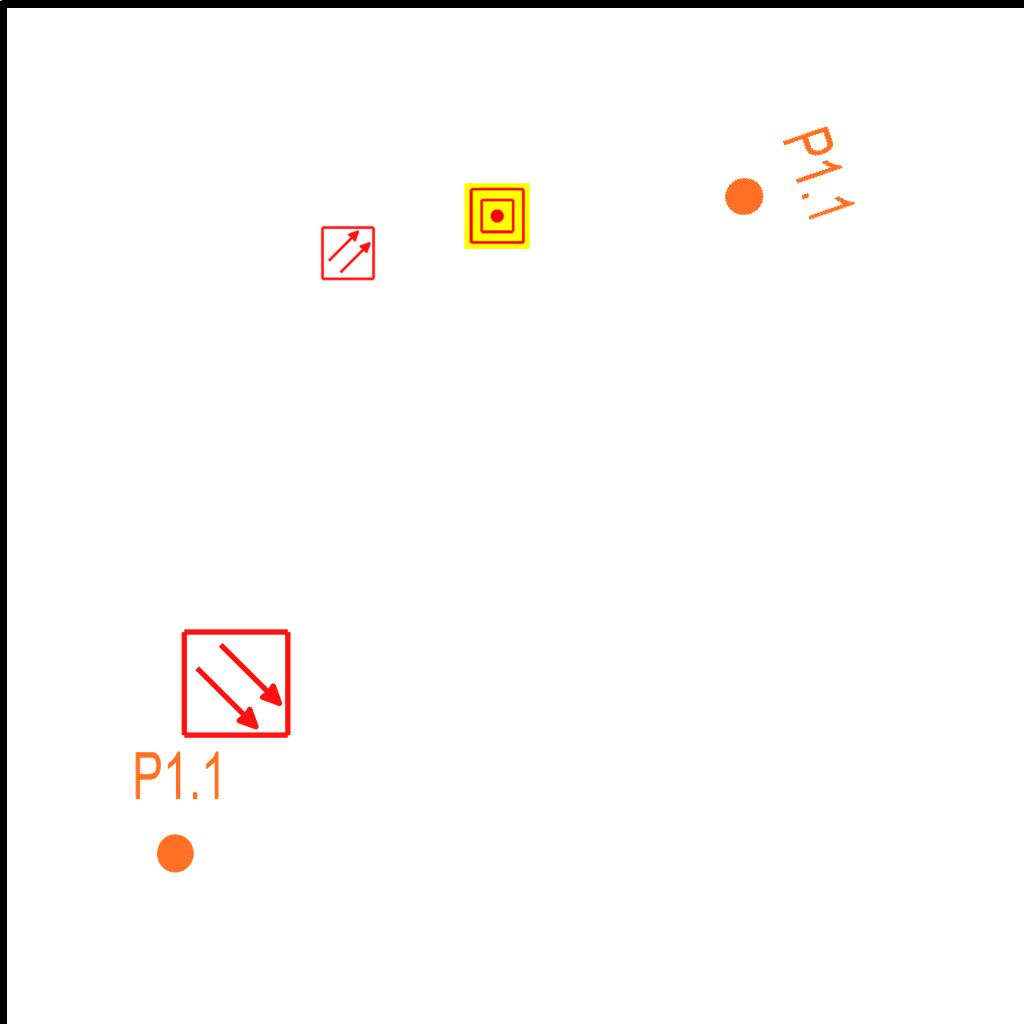Downlight_LED_Einbauleuchten_Flur: (708, 121, 861, 251), (132, 748, 225, 876)
NAM-Nichtautomatischer_Melder: (464, 183, 530, 249)
RMO_Rauchmelder_optischer: (180, 627, 293, 740), (320, 225, 376, 281)
